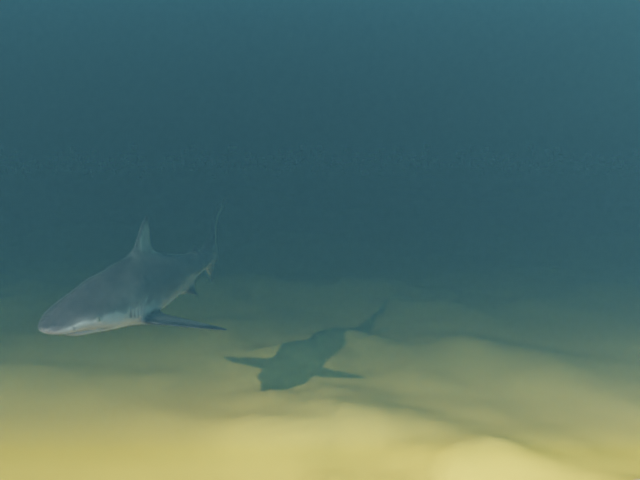Carribean Shark.001: (37, 195, 228, 335)
